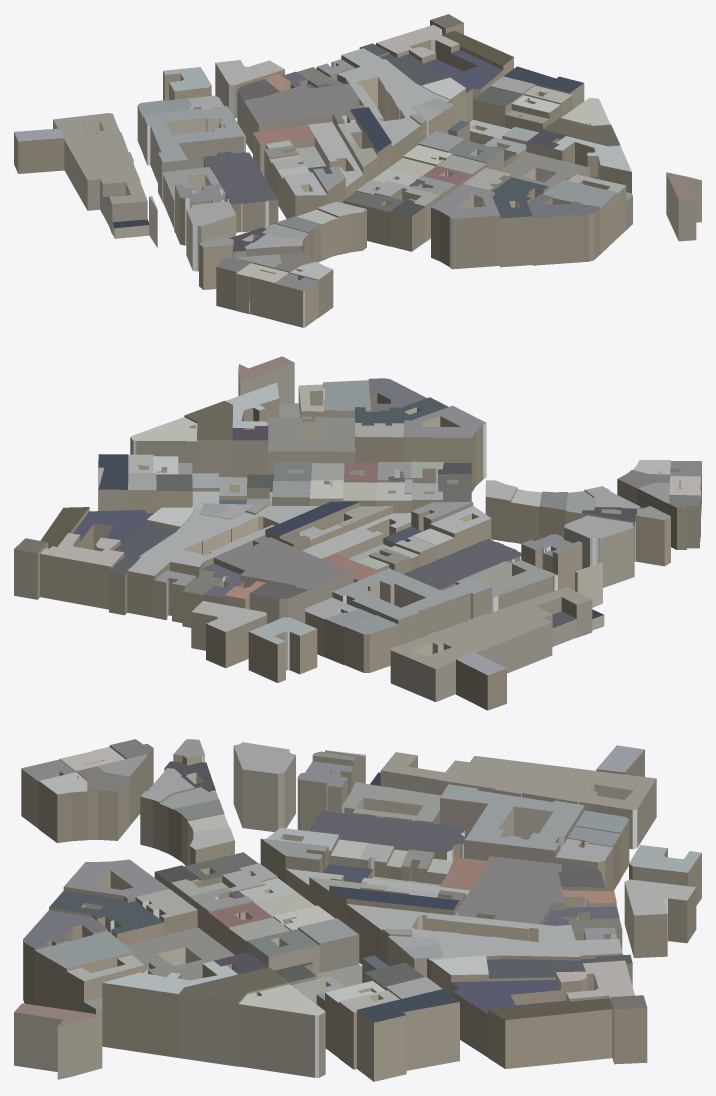
3 views of the same model, one above another, from view 1: azimuth 30°, elevation 25°; view 2: azimuth 150°, elevation 25°; view 3: azimuth 270°, elevation 25° (orthographic). The views are drawn at different scales.
Visible parts, largest first — view 1: tuile; view 2: tuile; view 3: tuile.
Boxes of the visible parts, bbox=[...] form: tuile: bbox=[14, 14, 701, 327]; tuile: bbox=[14, 356, 701, 710]; tuile: bbox=[14, 739, 701, 1081].
Bounding box in the file's own units: 276 × 30.03 × 272.
